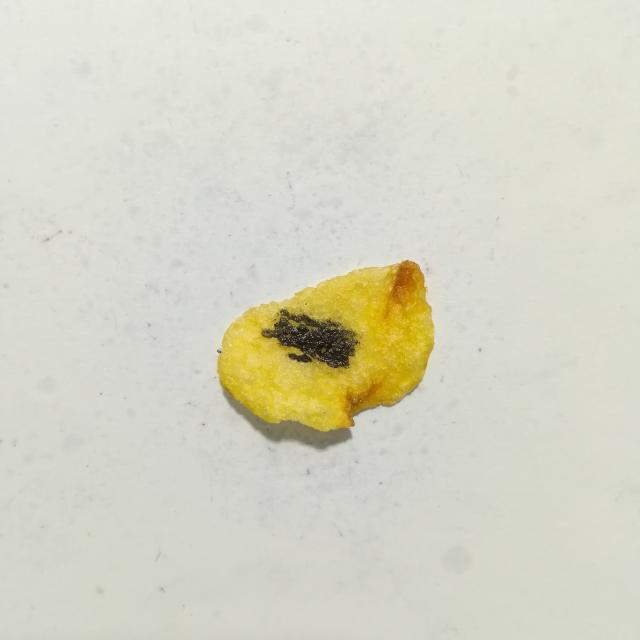chip: (217, 261, 434, 431)
damaged: (262, 309, 359, 368)
